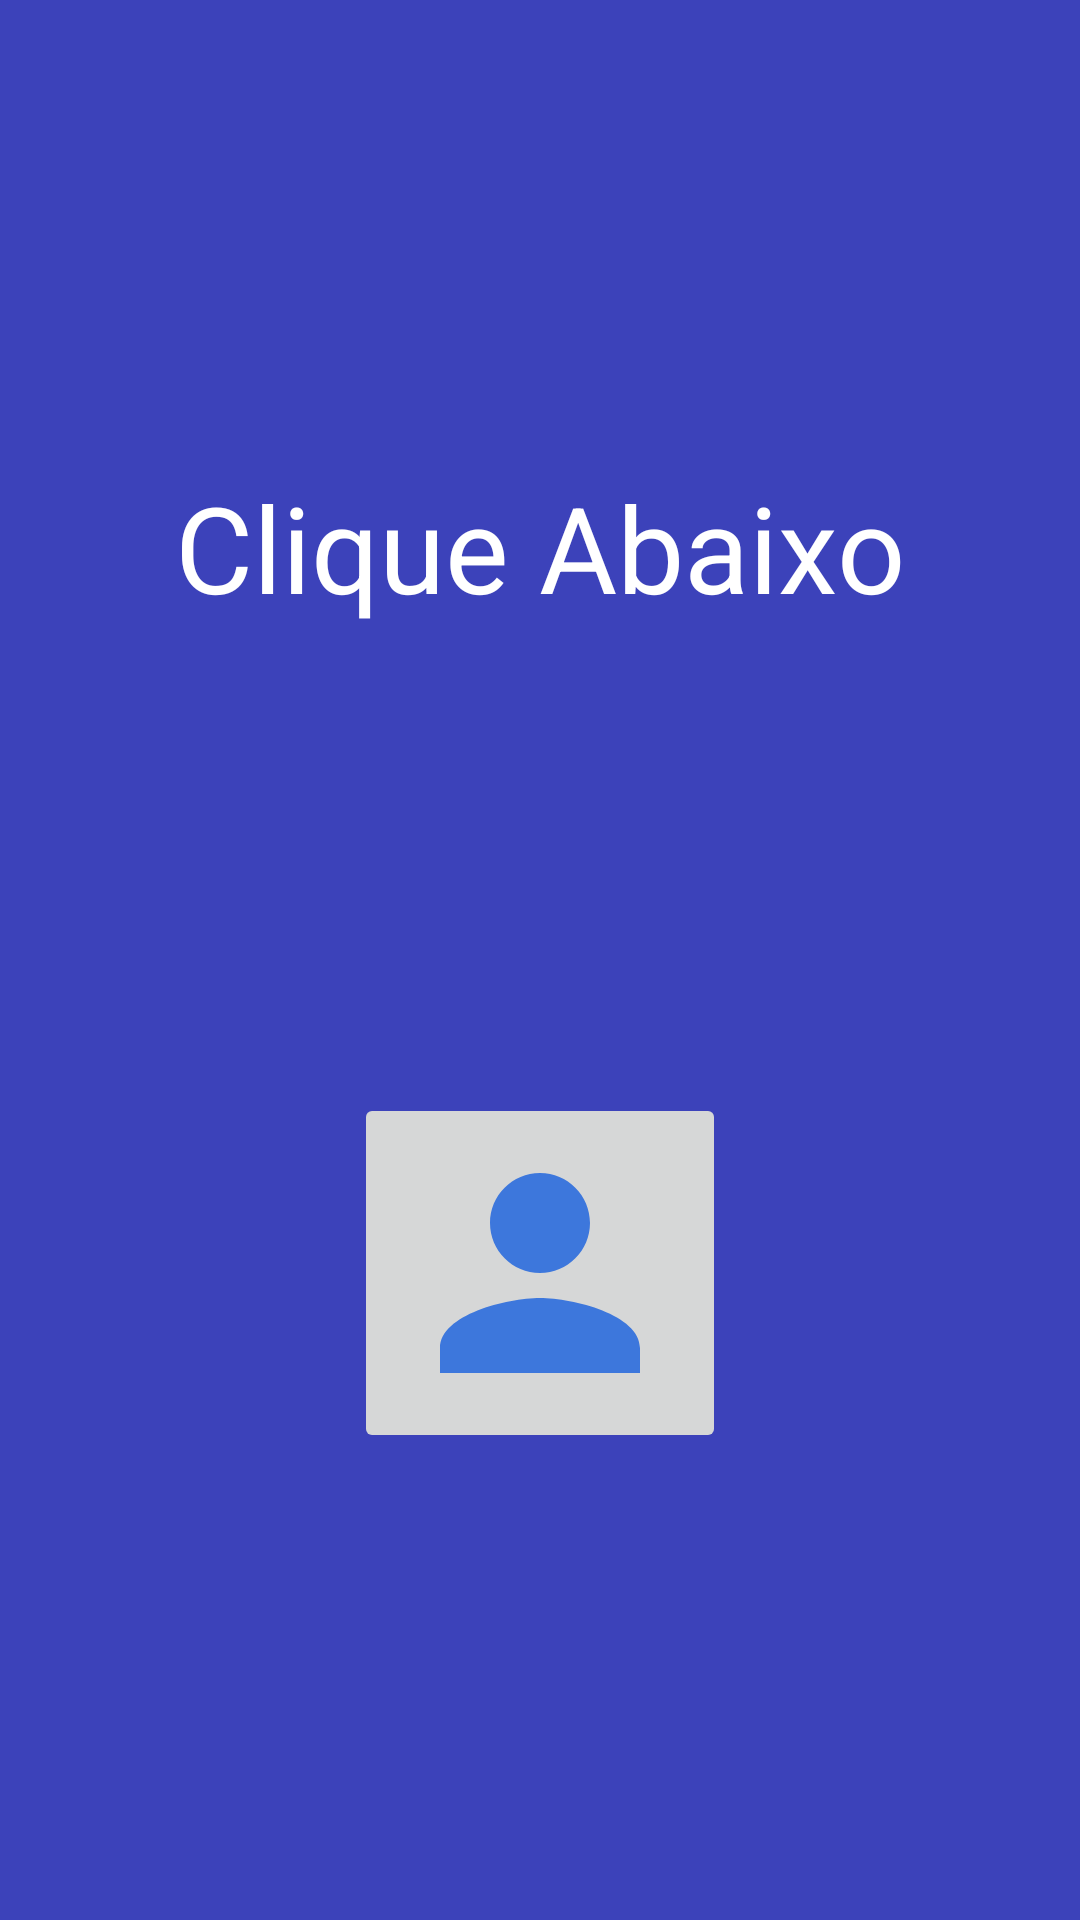

Where to tap for icons on this 1080×1920 app screen, as [x,y]:
aluno: [540,1273]
